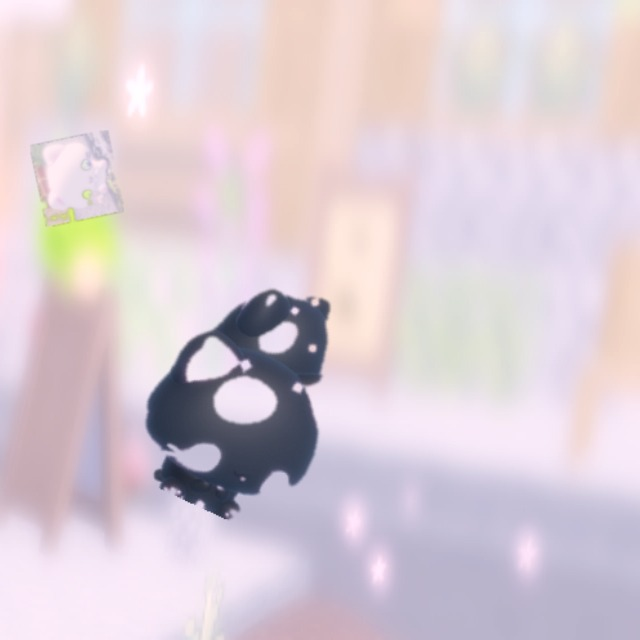urso_branco: (30, 130, 124, 227)
urso_preto: (109, 231, 399, 550)
